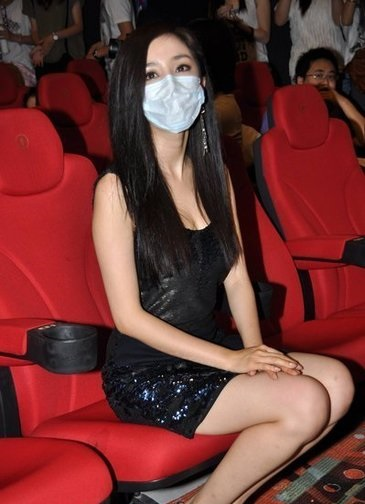face: (305, 59, 335, 103)
face_mask: (142, 40, 198, 131)
